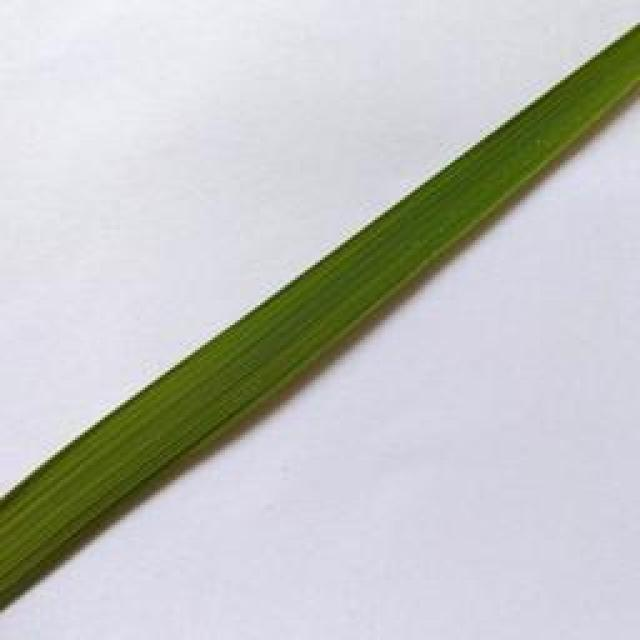Healthy-Plant: (0, 24, 640, 600)
